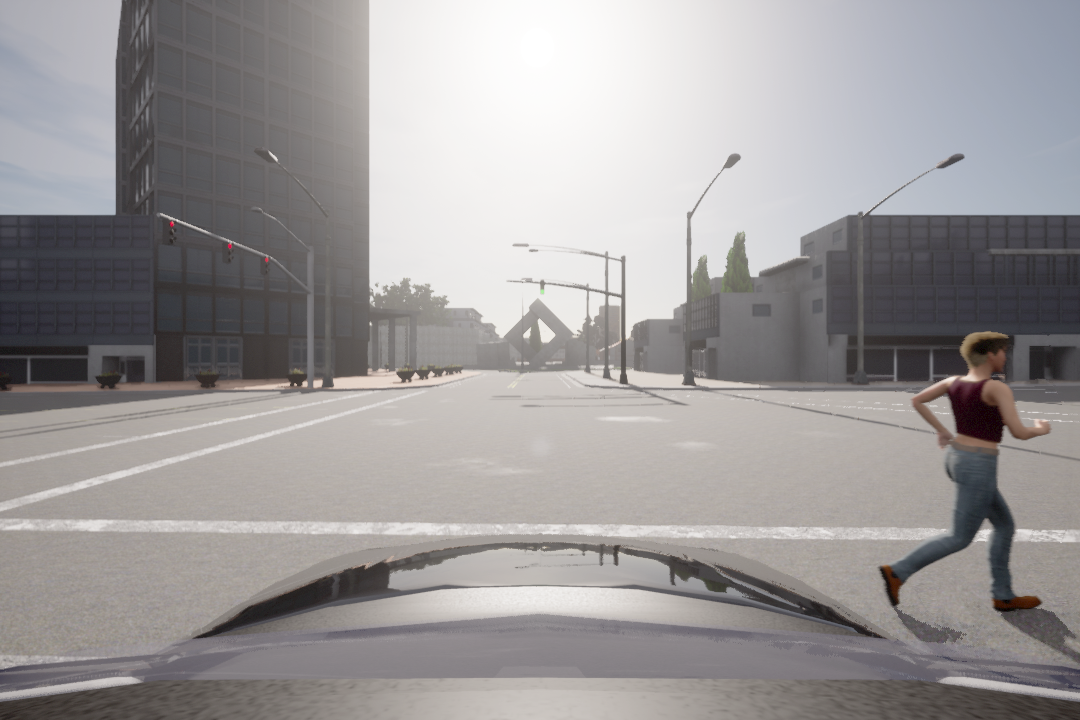TrafficLight: (162, 217, 180, 247), (221, 236, 235, 265), (260, 254, 271, 279), (539, 279, 545, 298)
